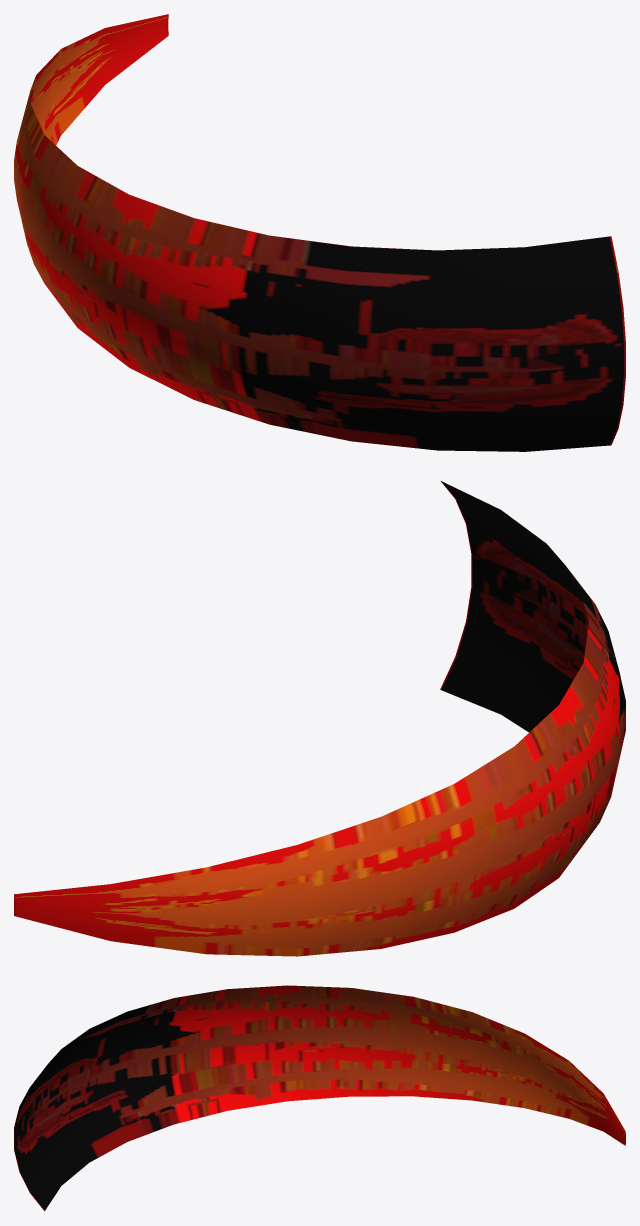
Rendered from M1005_attackA.FBX.
The picture shows the model from 3 angles, top to bottom: view 1: azimuth 30°, elevation 25°; view 2: azimuth 150°, elevation 25°; view 3: azimuth 270°, elevation 25°; orthographic projection. The views are drawn at different scales.
Parts seen in each view (by area): view 1: Plane001; view 2: Plane001; view 3: Plane001.
Boxes of the visible parts, left/top/right/bottom form: Plane001: left=14, top=14, right=625, bottom=451; Plane001: left=14, top=481, right=625, bottom=956; Plane001: left=14, top=985, right=625, bottom=1211.
Size of the model in its own units: 34.59 by 21.16 by 83.86.
